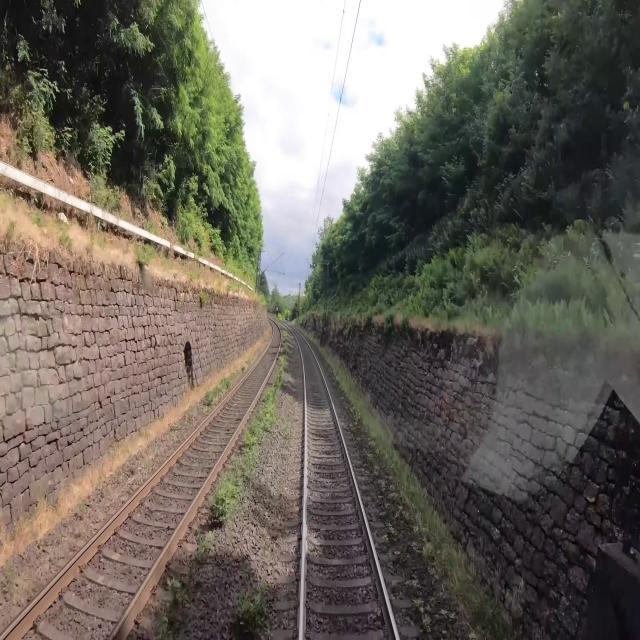Plant: (150, 327, 292, 639), (383, 519, 440, 633), (228, 564, 283, 639), (201, 372, 236, 413), (282, 410, 301, 446)
